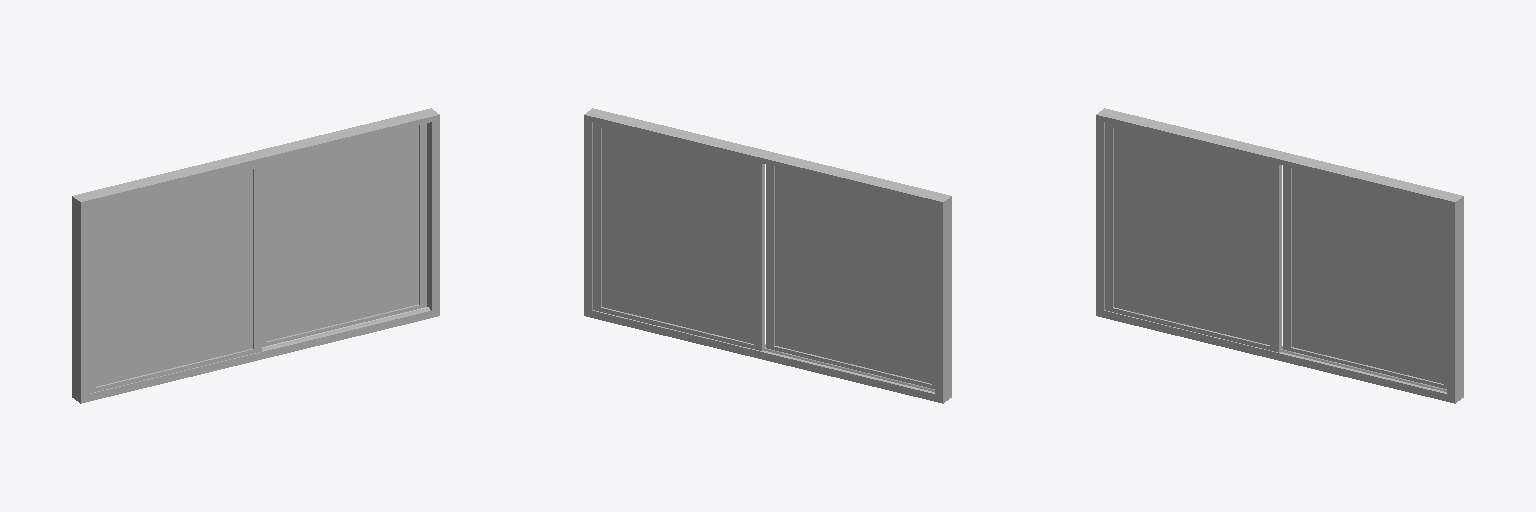
File: SlidingSquareWindow.obj
3 views of the same model, side by side, from view 1: azimuth 30°, elevation 25°; view 2: azimuth 150°, elevation 25°; view 3: azimuth 330°, elevation 25° (orthographic).
Visible parts, largest first — view 1: SquareSlidingWindow; view 2: SquareSlidingWindow; view 3: SquareSlidingWindow.
Boxes of the visible parts, <box> form: SquareSlidingWindow: <box>72,108,439,403</box>; SquareSlidingWindow: <box>584,108,951,403</box>; SquareSlidingWindow: <box>1096,108,1463,403</box>.
Bounding box in the file's own units: 70.8 × 37.92 × 3.